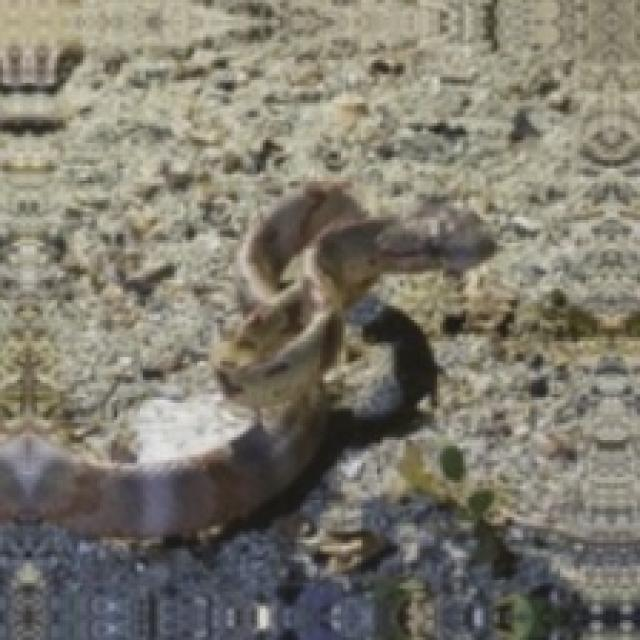dog-toothed cat snake: (0, 180, 491, 537)
